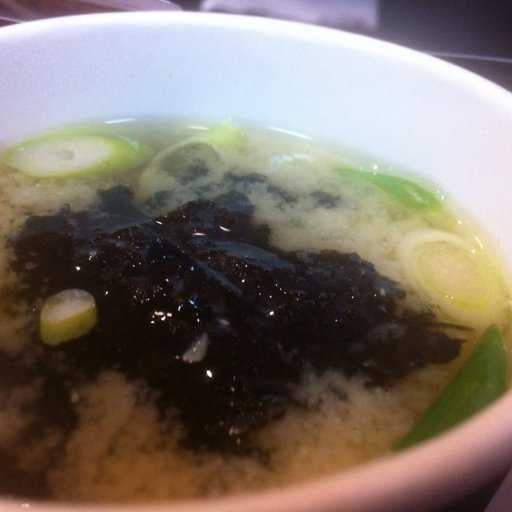soup: (3, 69, 490, 500)
